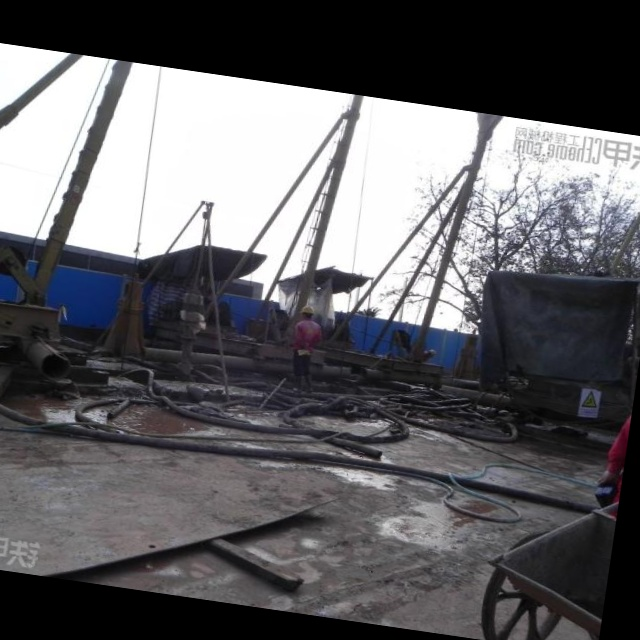Con_Casco: (301, 304, 317, 320)
Sin_Chaleco: (293, 319, 321, 358)
